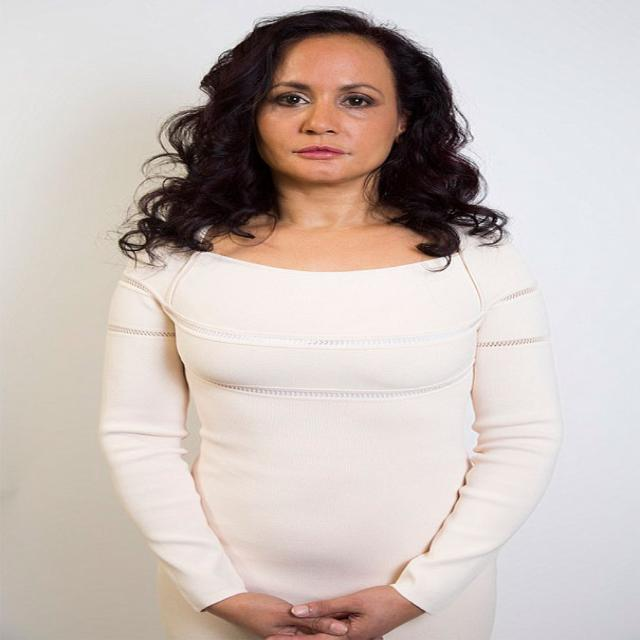mobile_phonerotation: (97, 7, 564, 638)
